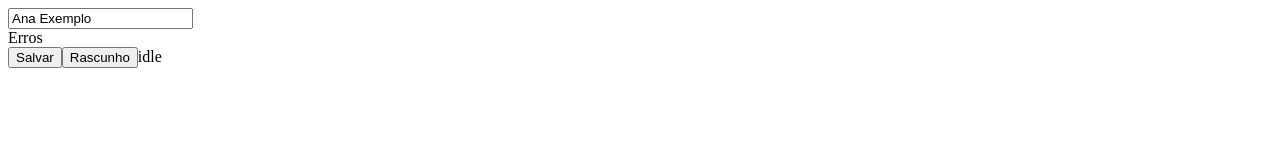
Test: useSubmit › com resumo de erros no form, o foco vai para ele
The width and height of the screenshot is (1280, 160).
Click the button "Salvar" at (35, 58), box left=8, top=47, right=62, bottom=68
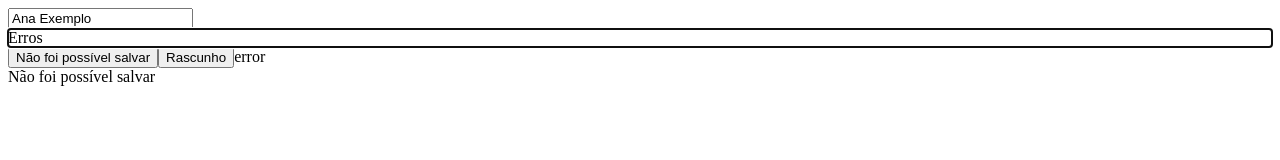
Expected: the button "Não foi possível salvar" is shown, left=8, top=47, right=158, bottom=68
